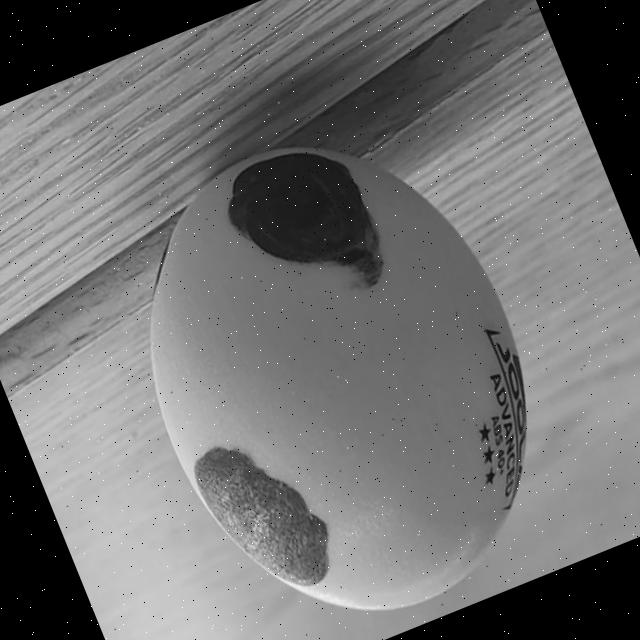ping-pong-ball: (47, 46, 620, 640)
